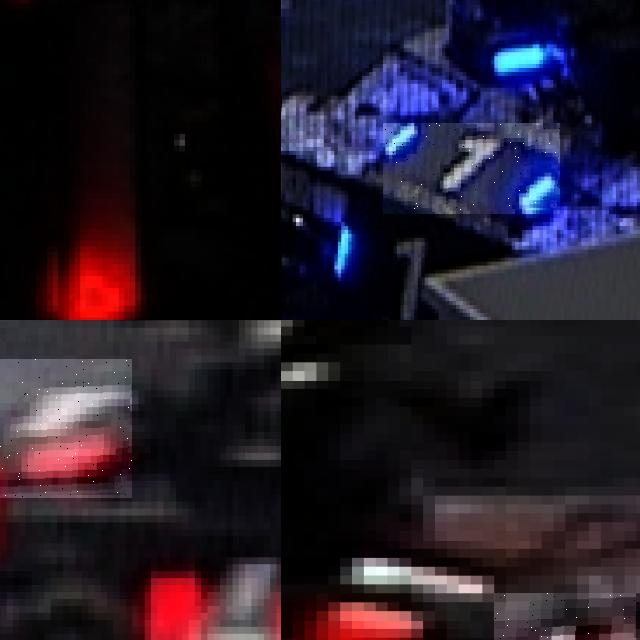B1: (383, 123, 560, 214), (327, 210, 448, 320)
R1: (316, 531, 506, 640), (494, 593, 636, 640)
R4: (0, 359, 132, 498), (126, 533, 281, 640)
